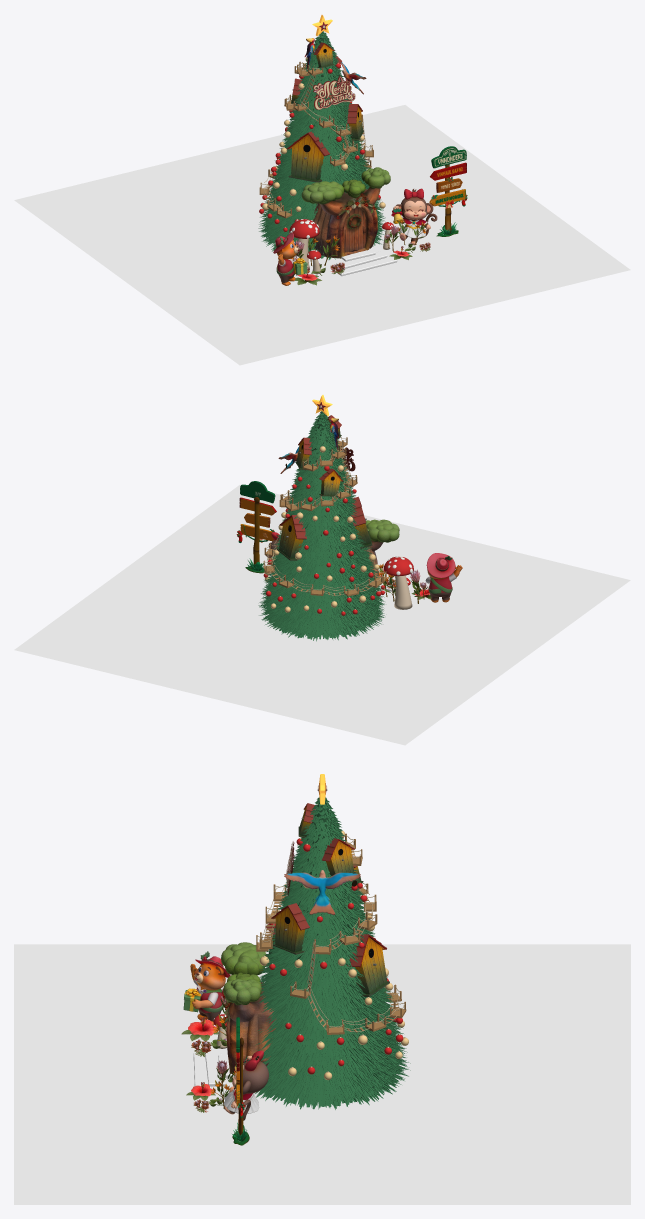
Rendered from safari.glb.
The picture shows the model from 3 angles, top to bottom: view 1: azimuth 30°, elevation 25°; view 2: azimuth 150°, elevation 25°; view 3: azimuth 270°, elevation 25°; orthographic projection. The views are drawn at different scales.
Parts seen in each view (by area): view 1: Plane, HERO_tree_fronds, node_0.001, node_0.003, node_0.015, node_0.009, node_0, HERO_sign_merry, node_0.005, node_0.006, PRP_mushroom_L1, PRP_ornaments_red; view 2: Plane, HERO_tree_fronds, node_0.003, node_0, PRP_mushroom_L1, node_0.012, node_0.001, PRP_ornaments_gold, PRP_ornaments_red, node_0.005, node_0.009; view 3: Plane, HERO_tree_fronds, node_0.001, node_0, node_0.012, node_0.015, node_0.010, node_0.007, node_0.005, node_0.006, node_0.003, PRP_ornaments_gold (+2 smaller).
Boxes of the visible parts, bbox=[...] form: Plane: bbox=[14, 105, 630, 365]; HERO_tree_fronds: bbox=[258, 32, 385, 259]; node_0.001: bbox=[301, 167, 390, 258]; node_0.003: bbox=[429, 146, 467, 236]; node_0.015: bbox=[391, 188, 437, 245]; node_0.009: bbox=[287, 131, 329, 182]; node_0: bbox=[273, 232, 307, 285]; HERO_sign_merry: bbox=[314, 76, 355, 109]; node_0.005: bbox=[295, 235, 344, 285]; node_0.006: bbox=[384, 220, 430, 259]; PRP_mushroom_L1: bbox=[289, 219, 319, 270]; PRP_ornaments_red: bbox=[259, 62, 380, 231]; Plane: bbox=[14, 485, 630, 745]; HERO_tree_fronds: bbox=[258, 412, 384, 641]; node_0.003: bbox=[236, 481, 276, 573]; node_0: bbox=[425, 553, 462, 602]; PRP_mushroom_L1: bbox=[383, 556, 413, 609]; node_0.012: bbox=[277, 515, 306, 560]; node_0.001: bbox=[364, 519, 399, 590]; PRP_ornaments_gold: bbox=[264, 446, 379, 612]; PRP_ornaments_red: bbox=[263, 466, 384, 615]; node_0.005: bbox=[379, 563, 431, 603]; node_0.009: bbox=[351, 496, 372, 548]; Plane: bbox=[14, 944, 630, 1204]; HERO_tree_fronds: bbox=[255, 797, 410, 1109]; node_0.001: bbox=[221, 942, 275, 1074]; node_0: bbox=[183, 951, 230, 1025]; node_0.012: bbox=[347, 934, 389, 996]; node_0.015: bbox=[223, 1050, 268, 1120]; node_0.010: bbox=[271, 903, 309, 954]; node_0.007: bbox=[284, 870, 360, 914]; node_0.005: bbox=[181, 996, 226, 1056]; node_0.006: bbox=[186, 1060, 235, 1112]; node_0.003: bbox=[232, 1017, 249, 1145]; PRP_ornaments_gold: bbox=[259, 831, 408, 1080].
Bounding box in the file's own units: 22.14 × 12.38 × 22.14.
Materials: 27 (10 with a texture image).
